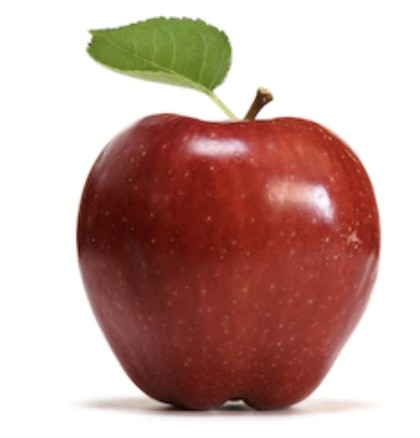fresh_apple: (70, 110, 382, 414)
